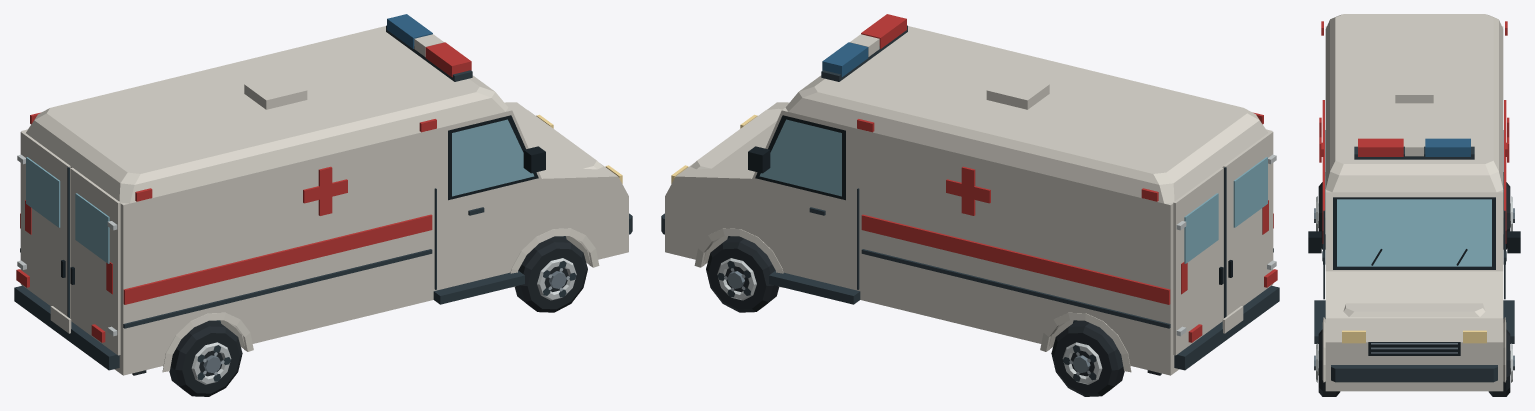
The model's file is b15_van_ambulance.glb.
The picture shows the model from 3 angles, left to right: view 1: azimuth 30°, elevation 25°; view 2: azimuth 150°, elevation 25°; view 3: azimuth 270°, elevation 25°; orthographic projection. The views are drawn at different scales.
Parts seen in each view (by area): view 1: b15_van_ambulance; view 2: b15_van_ambulance; view 3: b15_van_ambulance.
Boxes of the visible parts, <box> form: b15_van_ambulance: <box>14,14,632,396</box>; b15_van_ambulance: <box>661,14,1279,396</box>; b15_van_ambulance: <box>1308,14,1520,396</box>.
Size of the model in its own units: 6.42 by 2.92 by 2.56.
